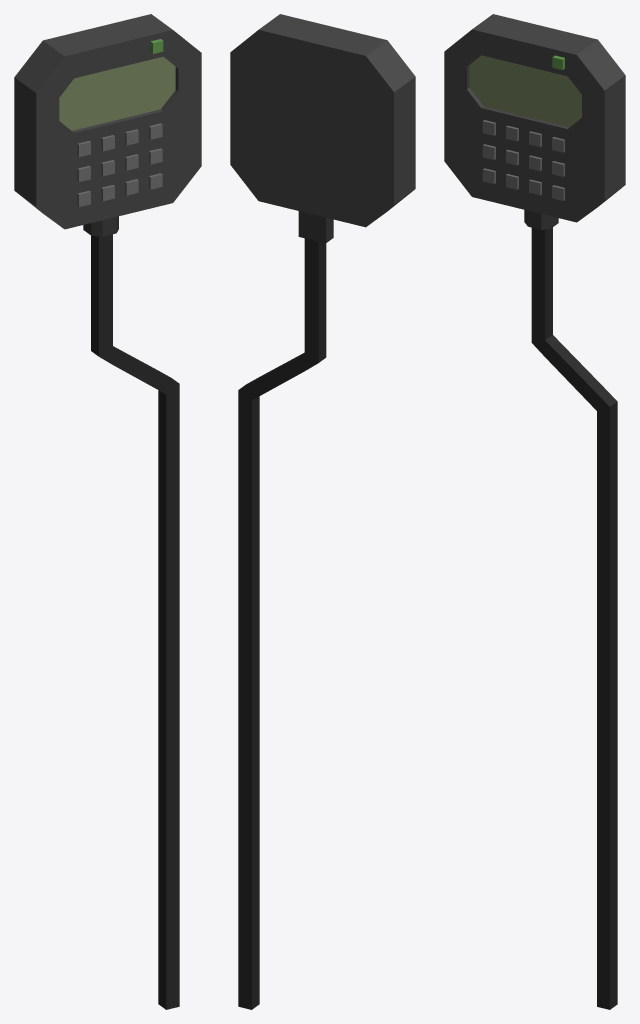
File: SM_Buildings_Part_11.fbx
3 renders of one model, left to right at view 1: azimuth 30°, elevation 25°; view 2: azimuth 150°, elevation 25°; view 3: azimuth 330°, elevation 25°, orthographic. The views are drawn at different scales.
Visible parts, largest first — view 1: SM_Buildings_Part_11; view 2: SM_Buildings_Part_11; view 3: SM_Buildings_Part_11.
Boxes of the visible parts, left/top/right/bottom form: SM_Buildings_Part_11: left=14, top=14, right=201, bottom=1009; SM_Buildings_Part_11: left=230, top=14, right=415, bottom=1009; SM_Buildings_Part_11: left=444, top=14, right=625, bottom=1009.
Bounding box in the file's own units: 26.16 × 150 × 6.68.
